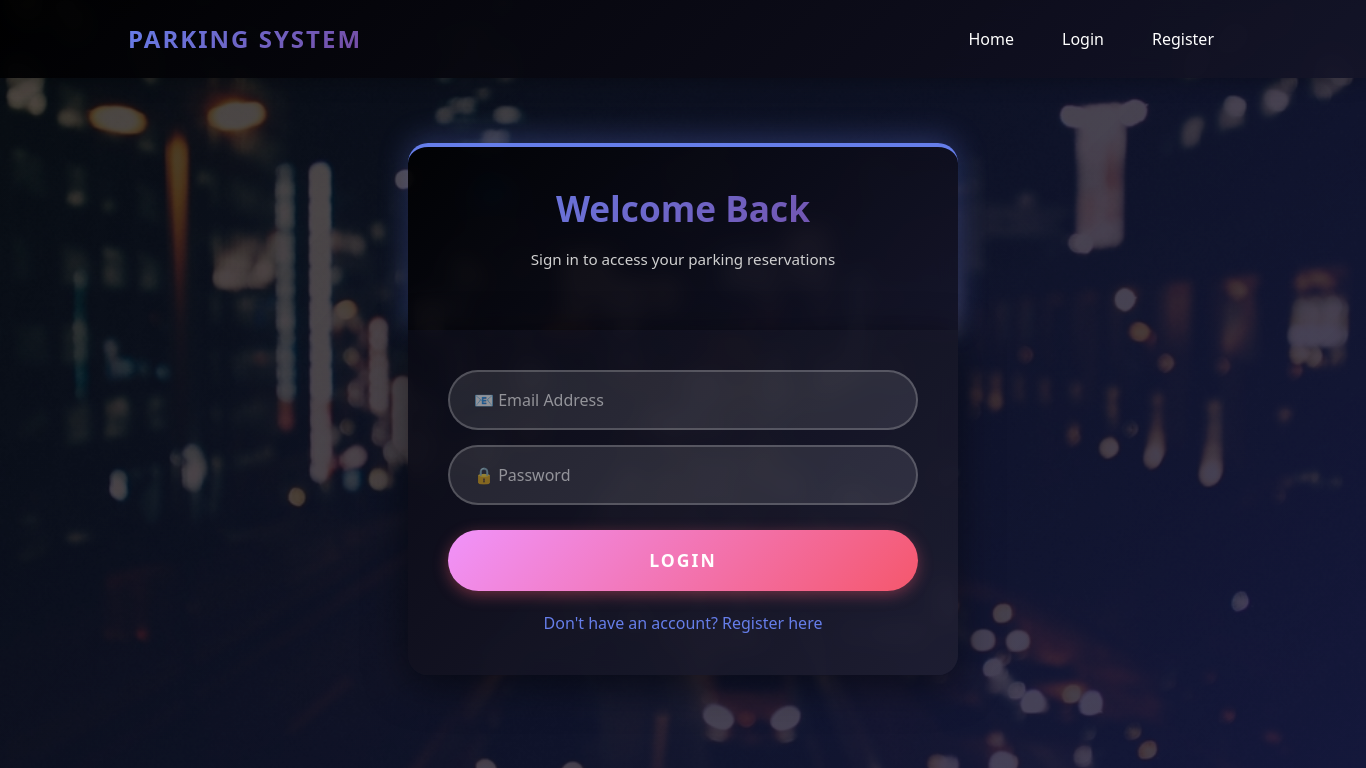
Scenario: Login › should show an error when reCAPTCHA is not ready
Type "test@example.com" into the field with placeholder "📧 Email Address" at (683, 400), box [448,370,918,430]
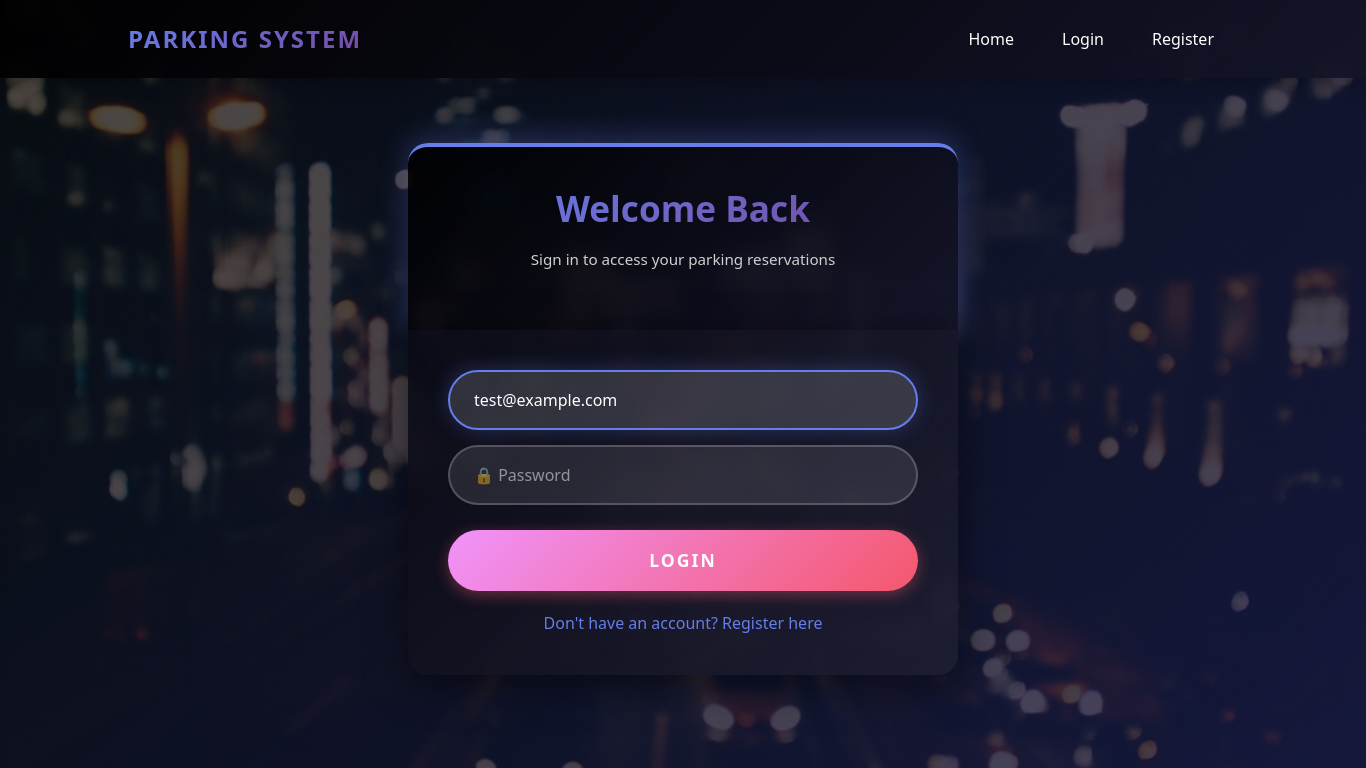
Type "Password@123" into the password field with placeholder "🔒 Password" at (683, 475), box [448,445,918,505]
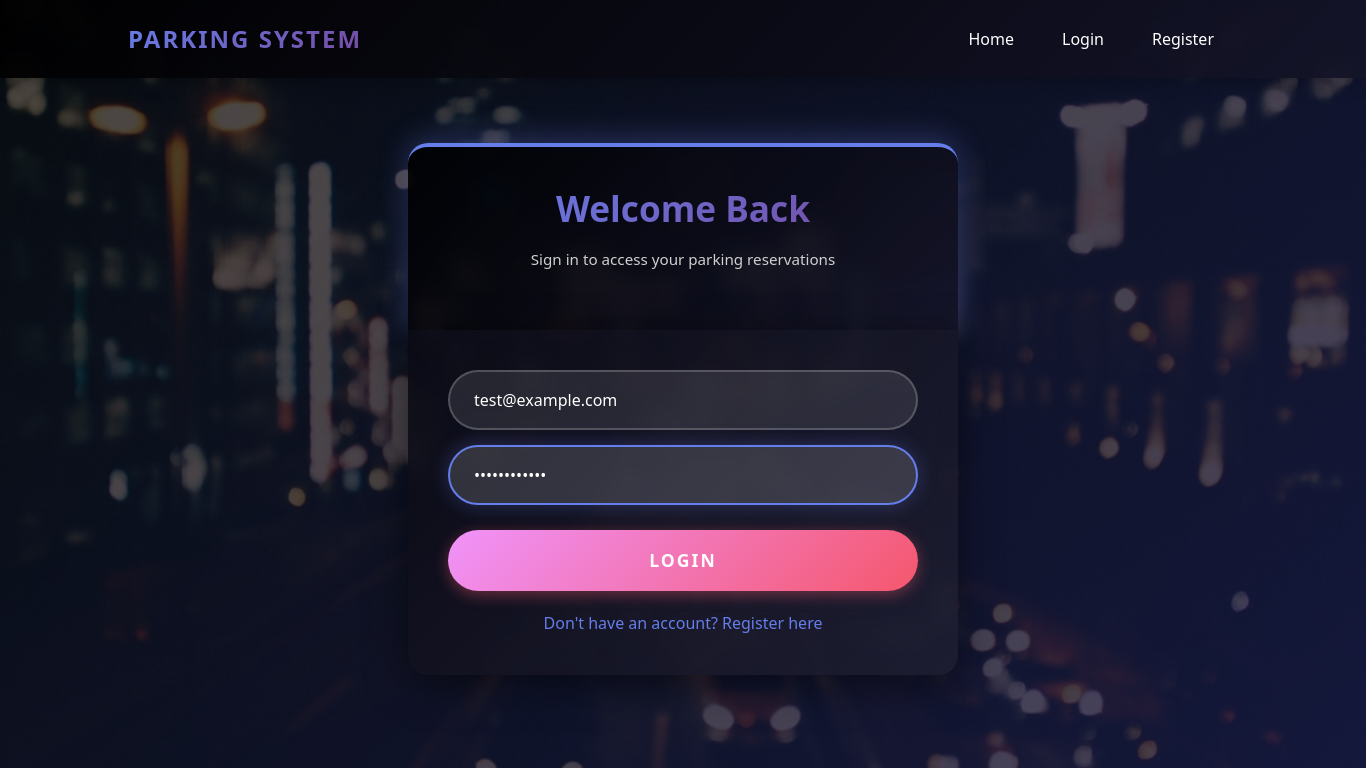
Click the button "LOGIN" at (683, 561), box [448,530,918,591]
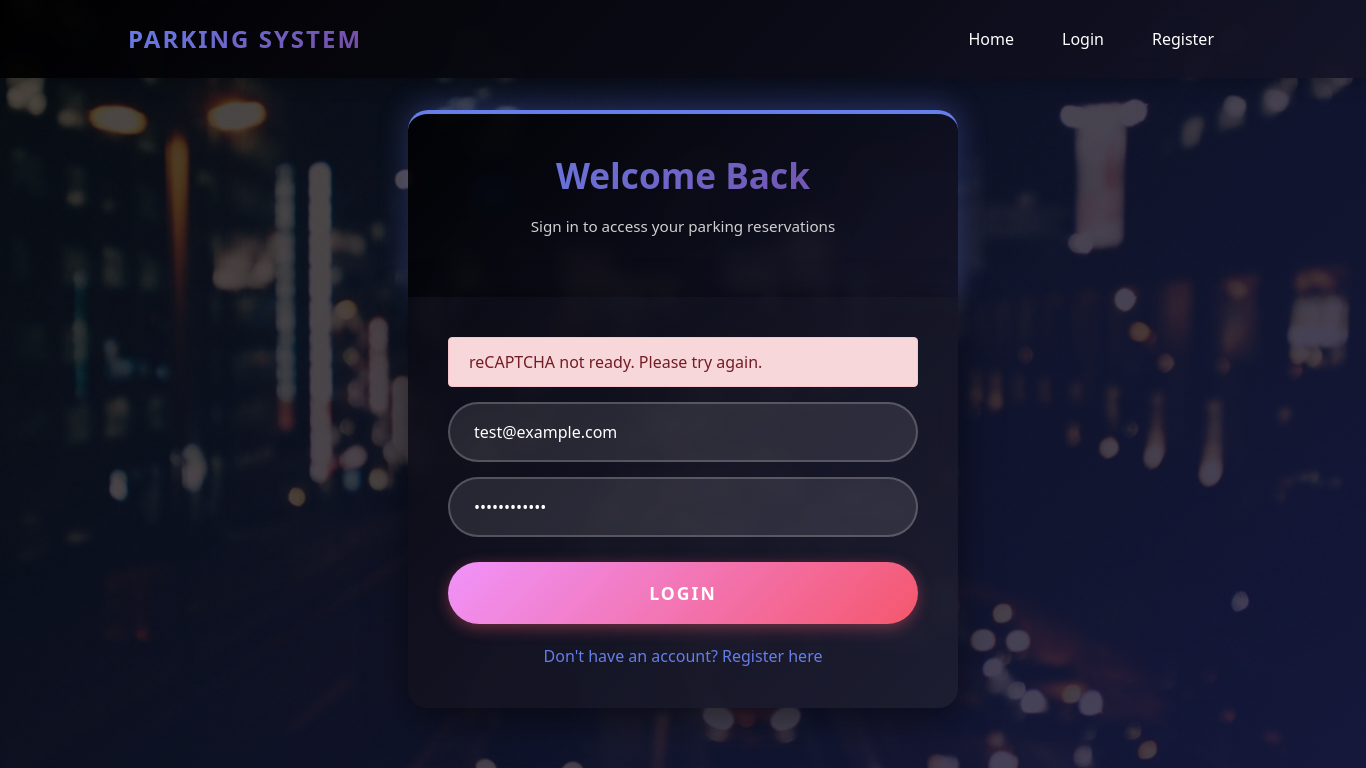
Expected: the text "reCAPTCHA not ready. Please try again." is shown, [448,337,918,387]
